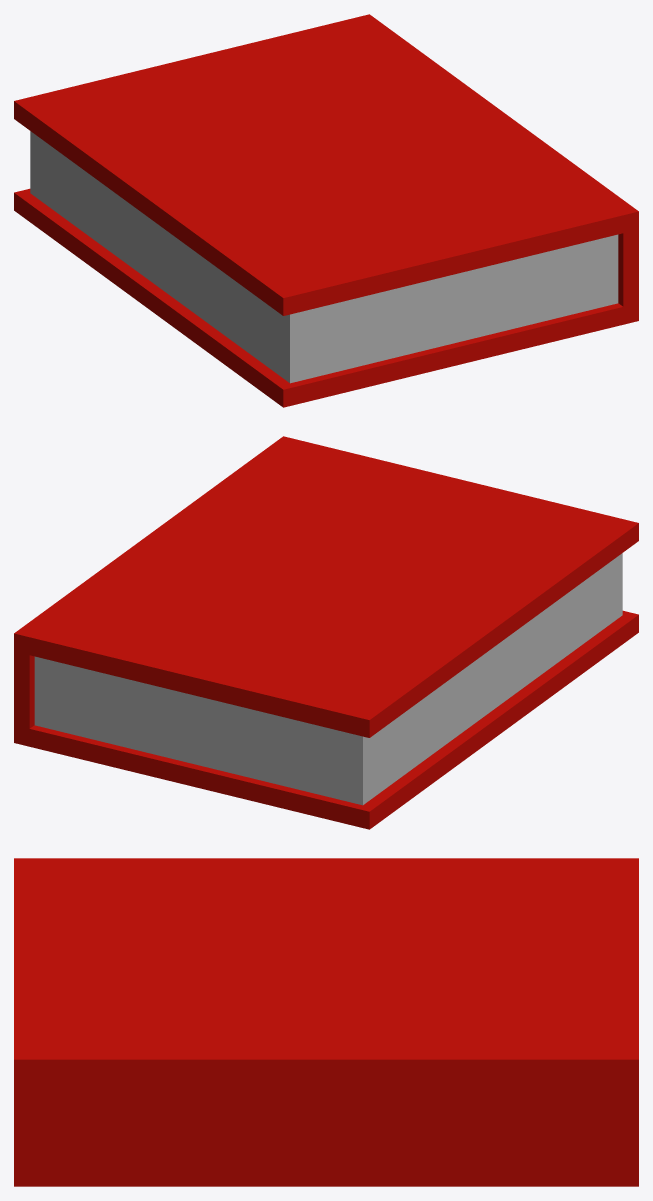
The model's file is book.fbx.
3 renders of one model, top to bottom at view 1: azimuth 30°, elevation 25°; view 2: azimuth 150°, elevation 25°; view 3: azimuth 270°, elevation 25°, orthographic. The views are drawn at different scales.
Visible parts, largest first — view 1: Book; view 2: Book; view 3: Book.
Part boxes in pixels (<box>): Book: <box>14,14,638,407</box>; Book: <box>14,436,638,829</box>; Book: <box>14,858,638,1186</box>.
Size of the model in its own units: 154 by 45.21 by 202.
